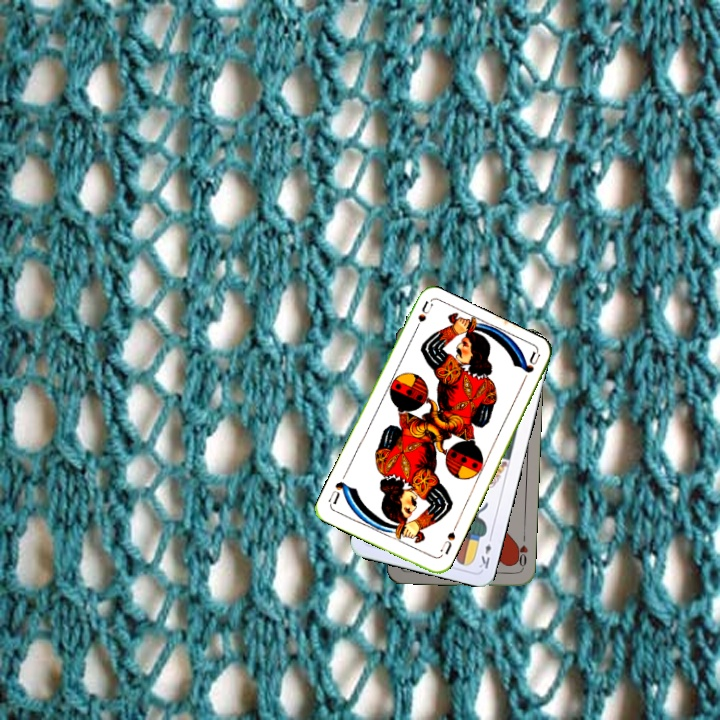EK: (475, 531, 495, 571)
HO: (511, 531, 530, 572)
SU: (409, 298, 435, 337), (437, 528, 458, 557)
